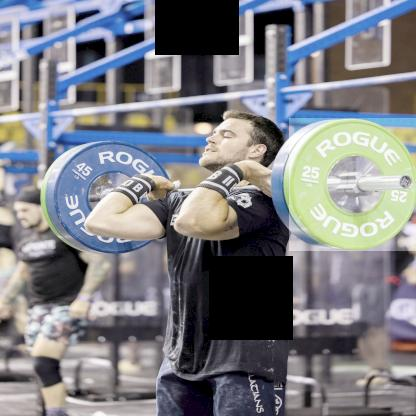barbell: (290, 119, 416, 252)
